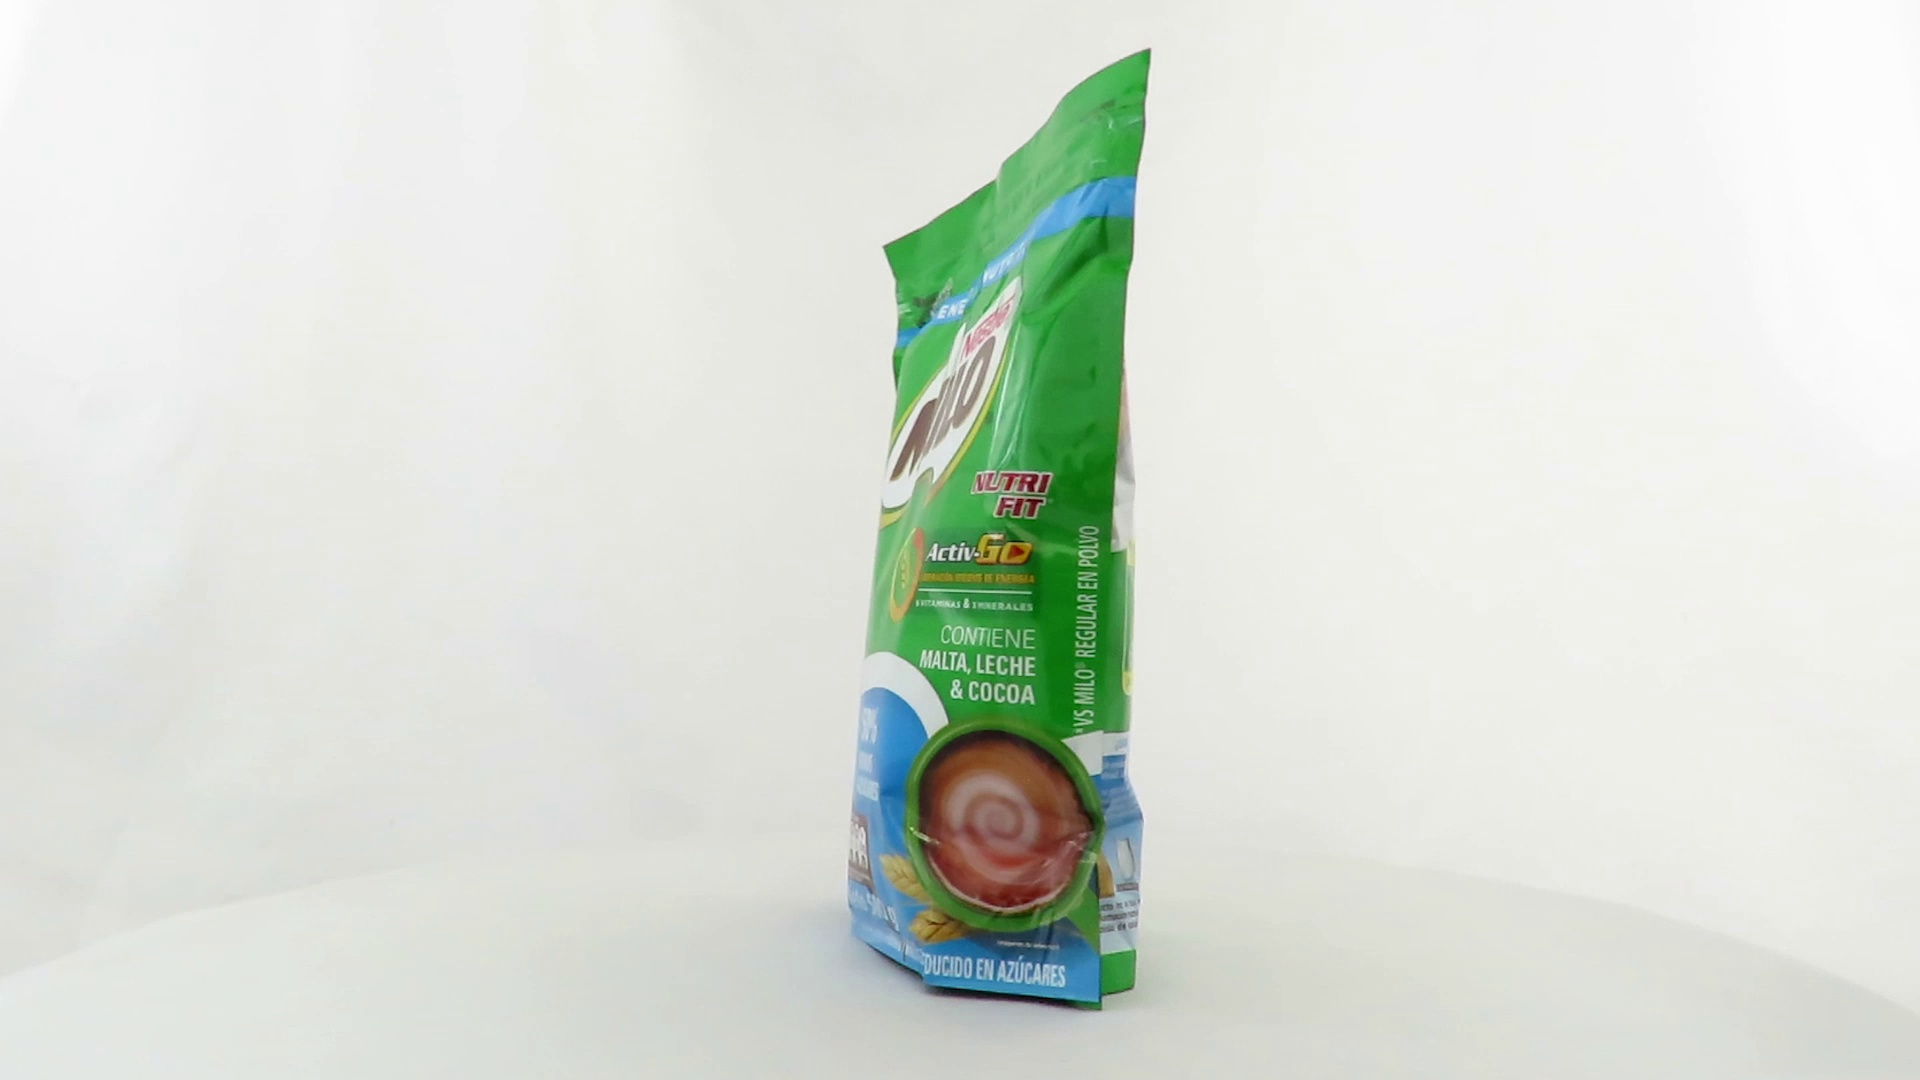COL0170205DYP50000: (843, 44, 1156, 1018)
